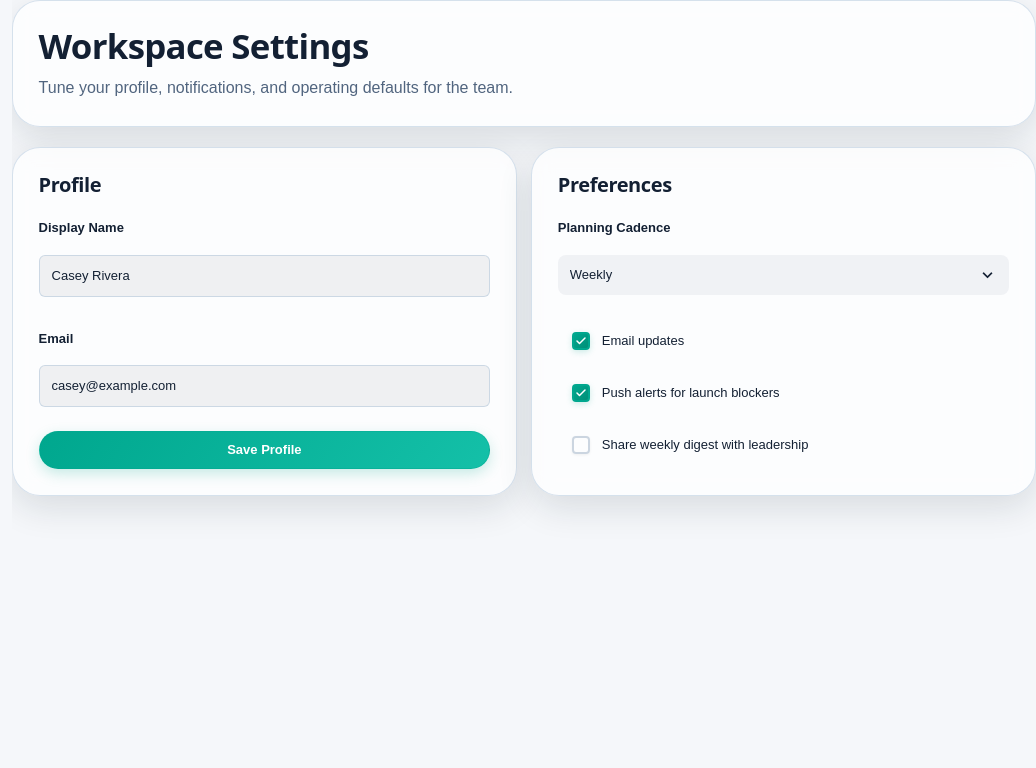
Scenario: Setting view › loads and saves settings through the API
The image size is (1036, 768).
Replace the text in the field with test id "display-name" with "Casey Updated". click: (264,276)
box: [39,255,490,297]
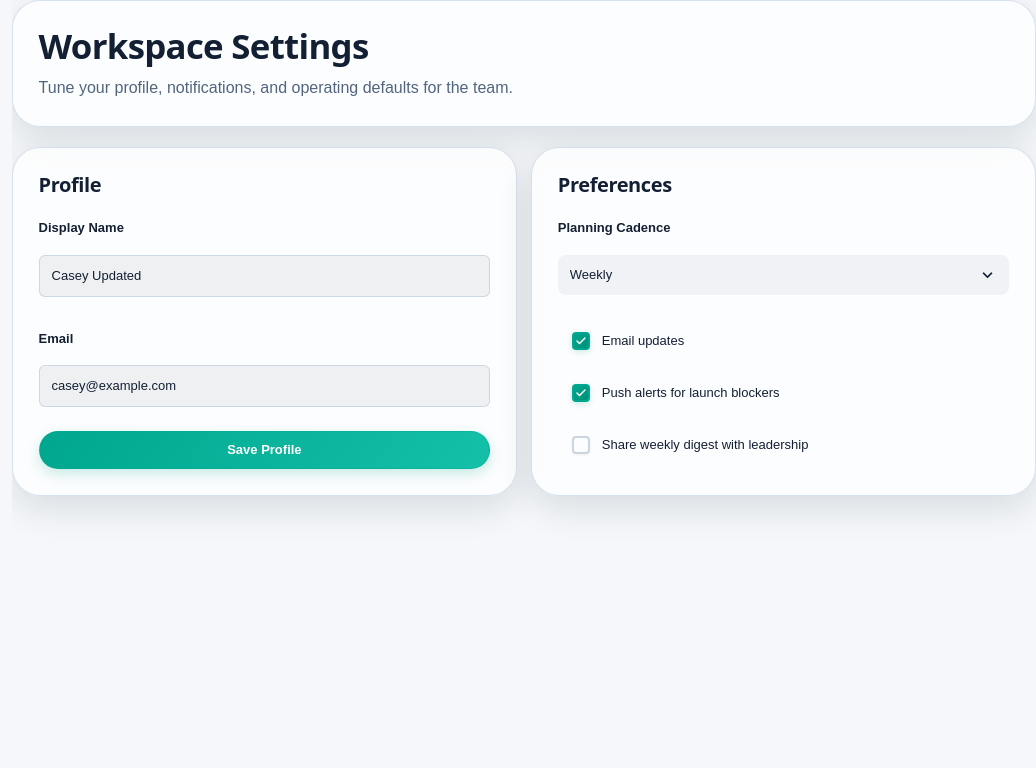
Click the button "Save Profile". click: (264,450)
box: [39,431,490,469]
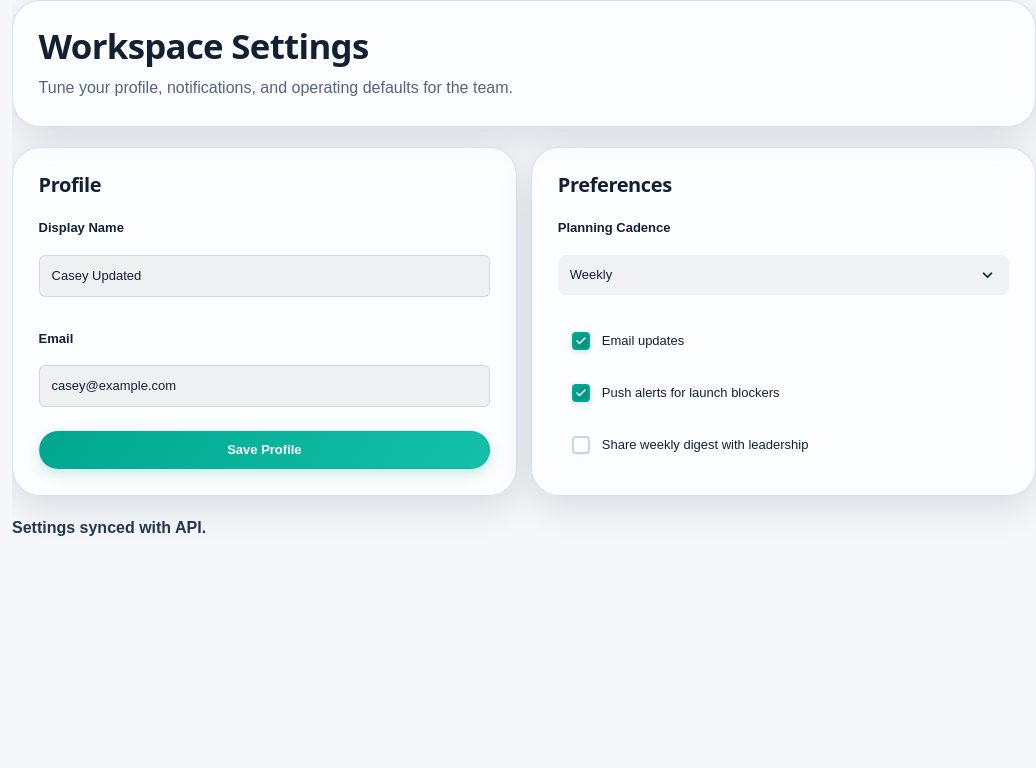
Expected: the text "Settings synced with API." is shown, [12,519,206,536]
